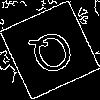Q: (25, 25, 82, 86)
